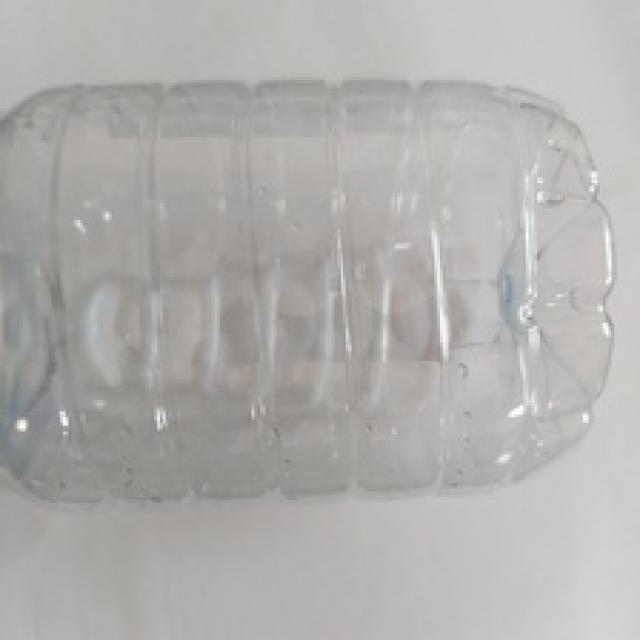Plastic: (0, 81, 611, 501)
